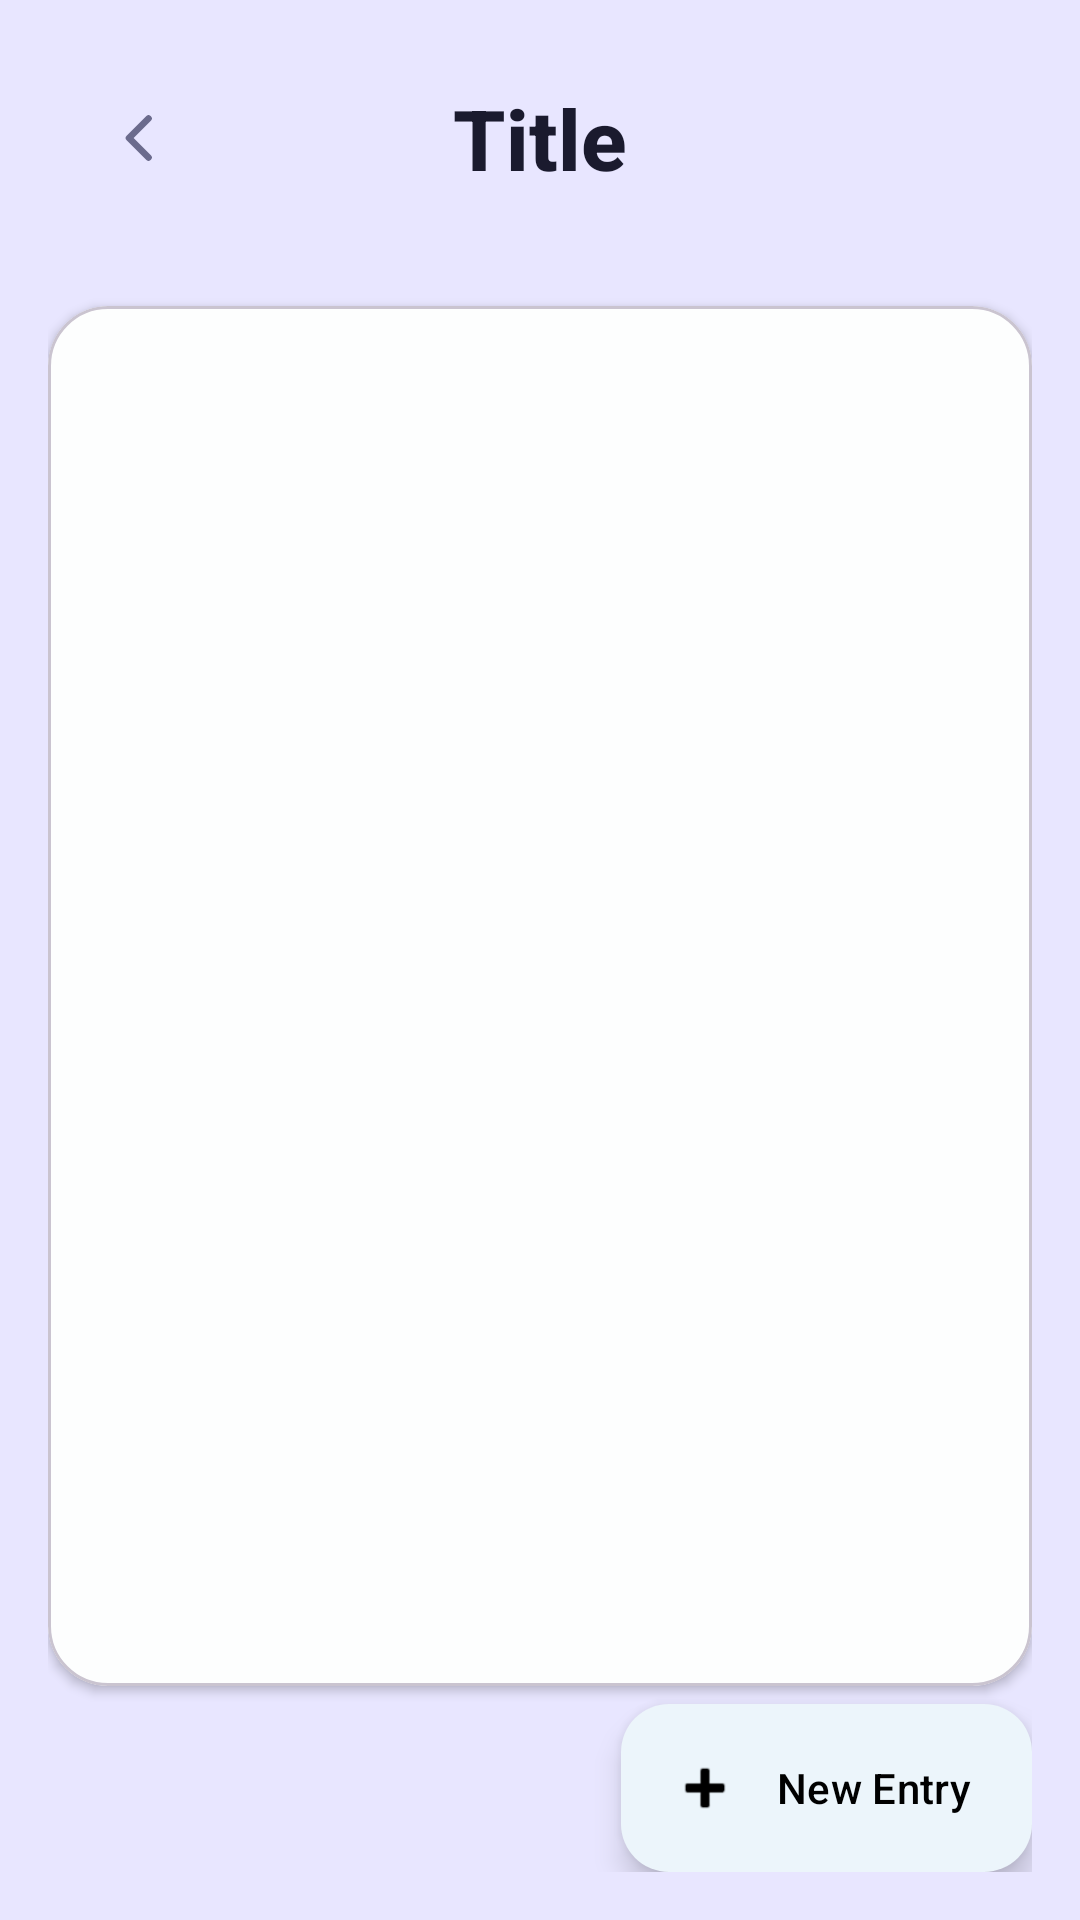

Icons on this 1080 × 1920 Android screen, each with its box as region(x1, y1, x2, y2):
Back: region(125, 115, 152, 161)
